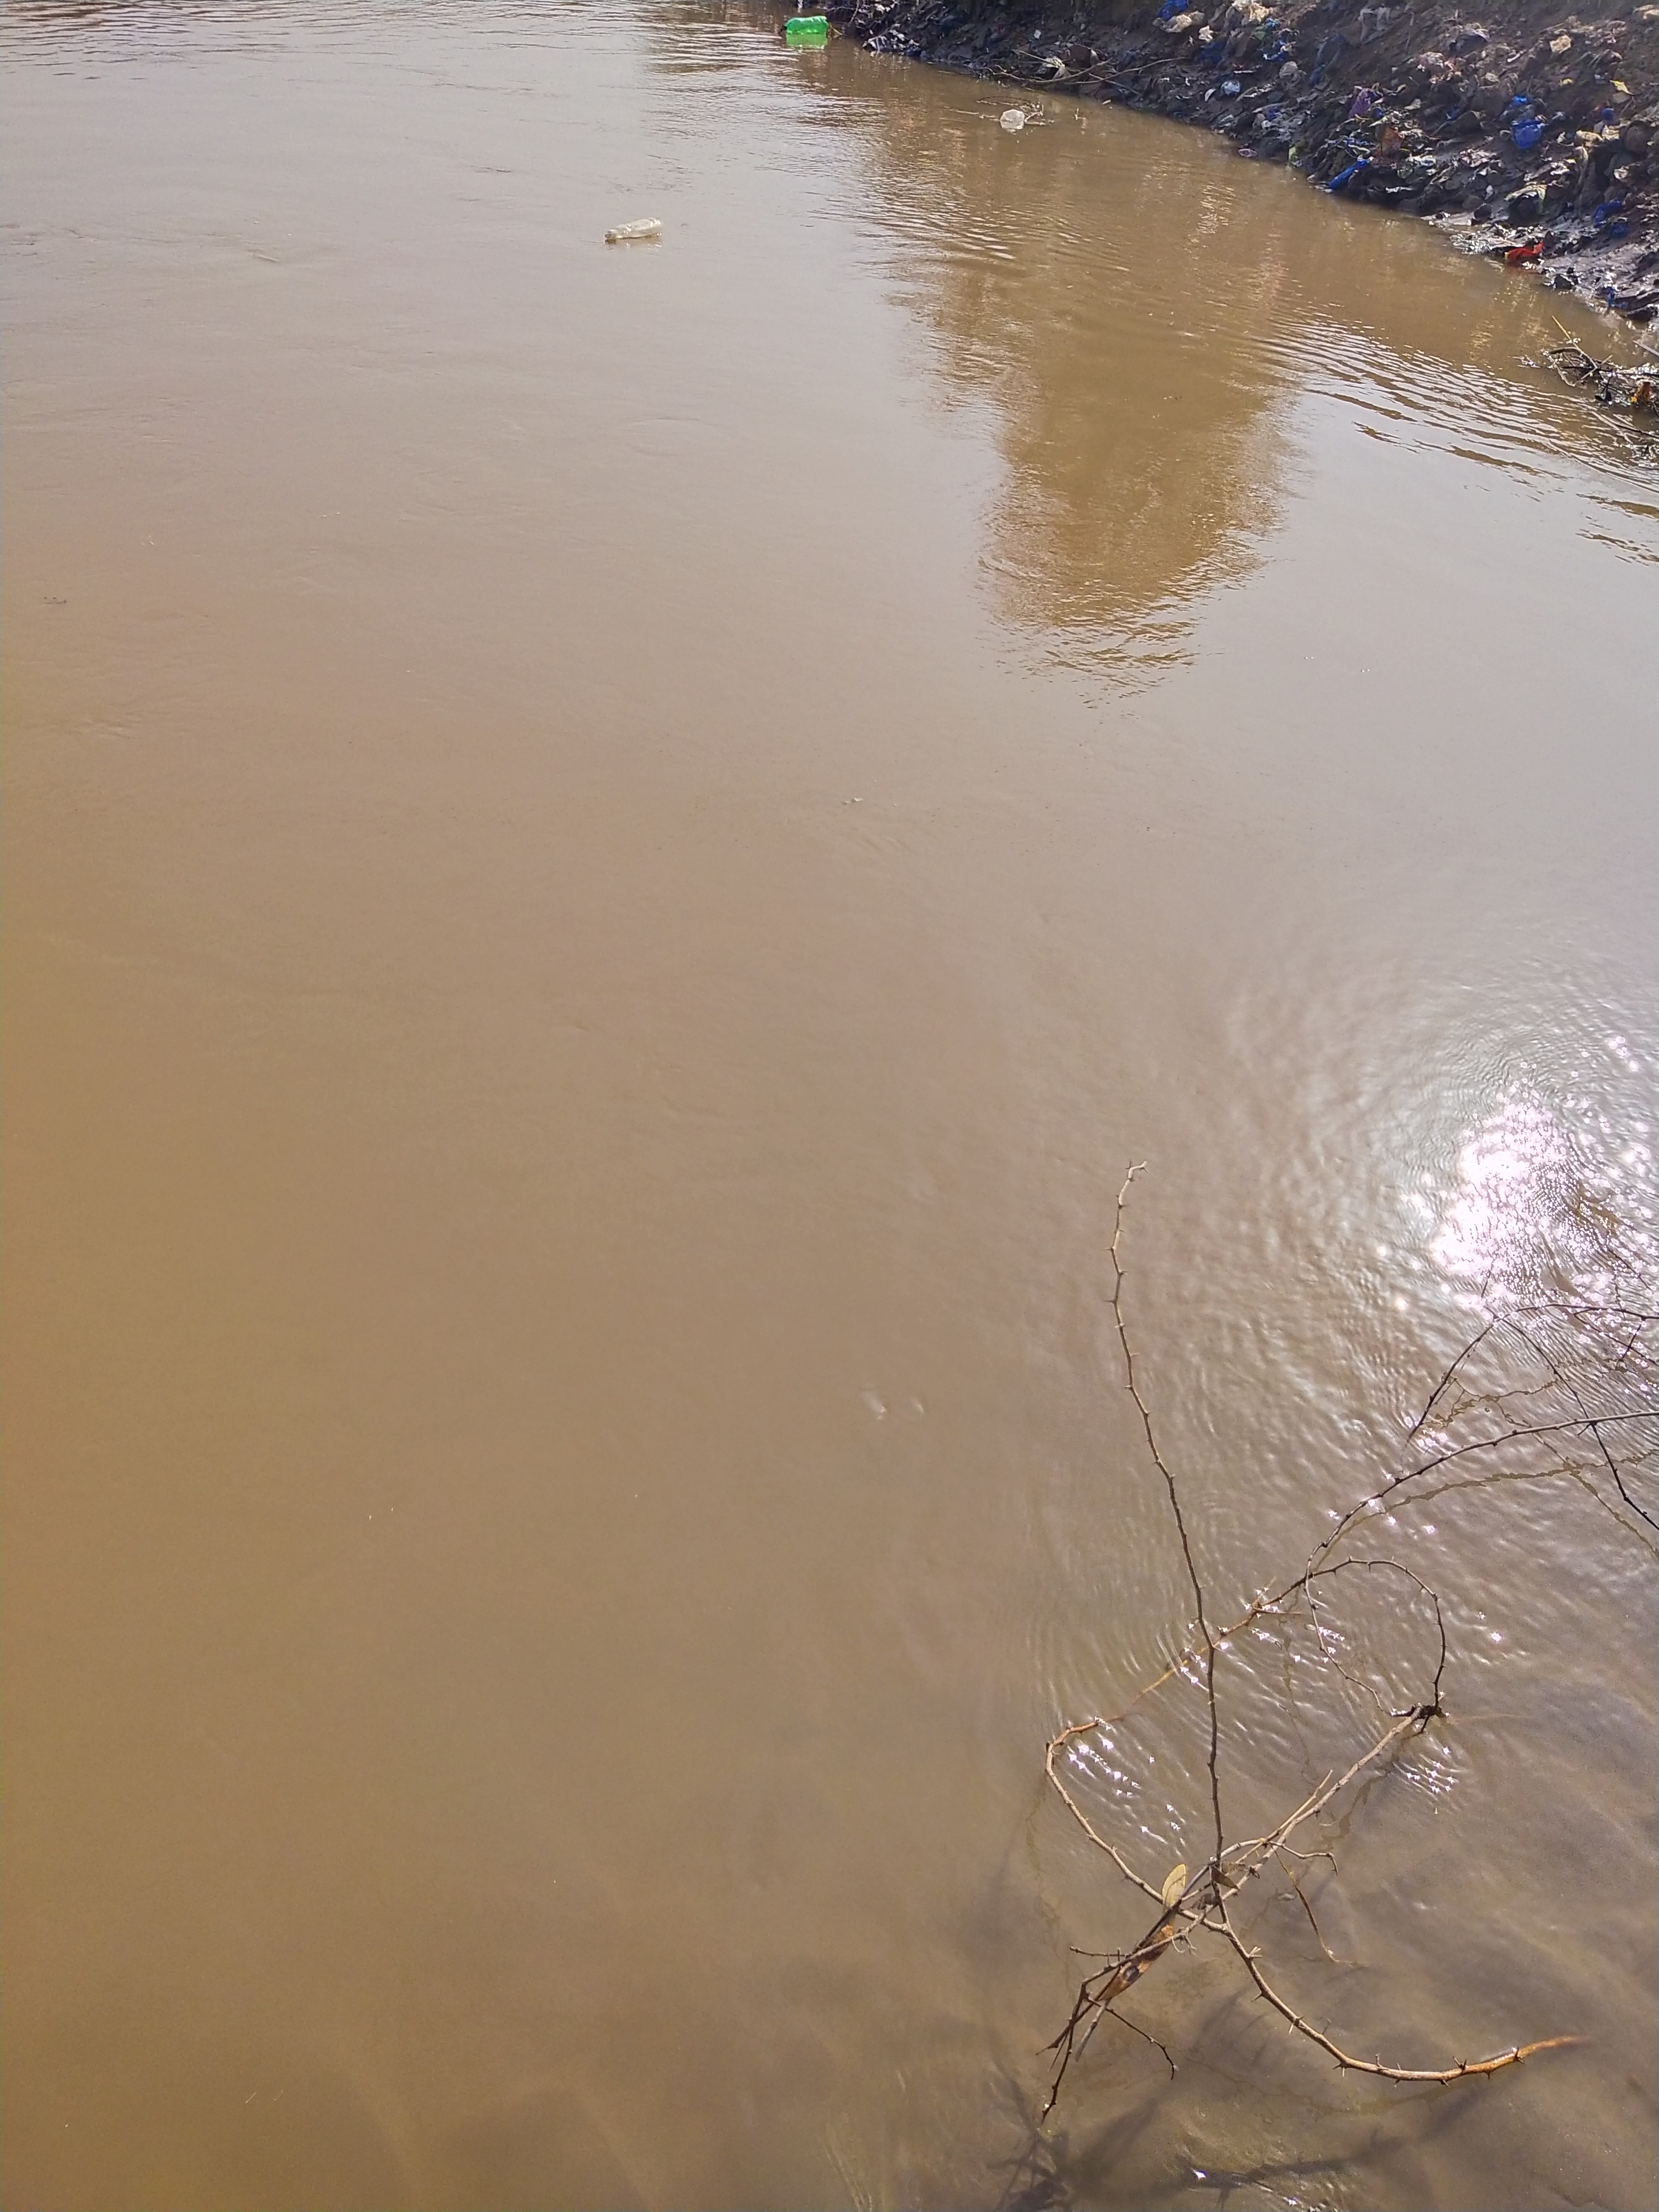Plastic Bottle: (605, 218, 662, 239), (781, 14, 830, 35)
